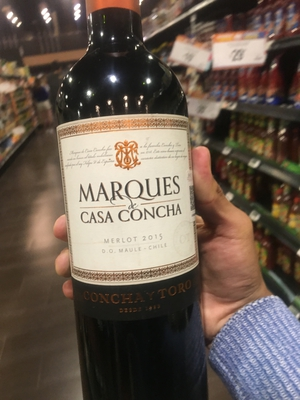marques de casa concha merlot: (56, 19, 215, 378)
